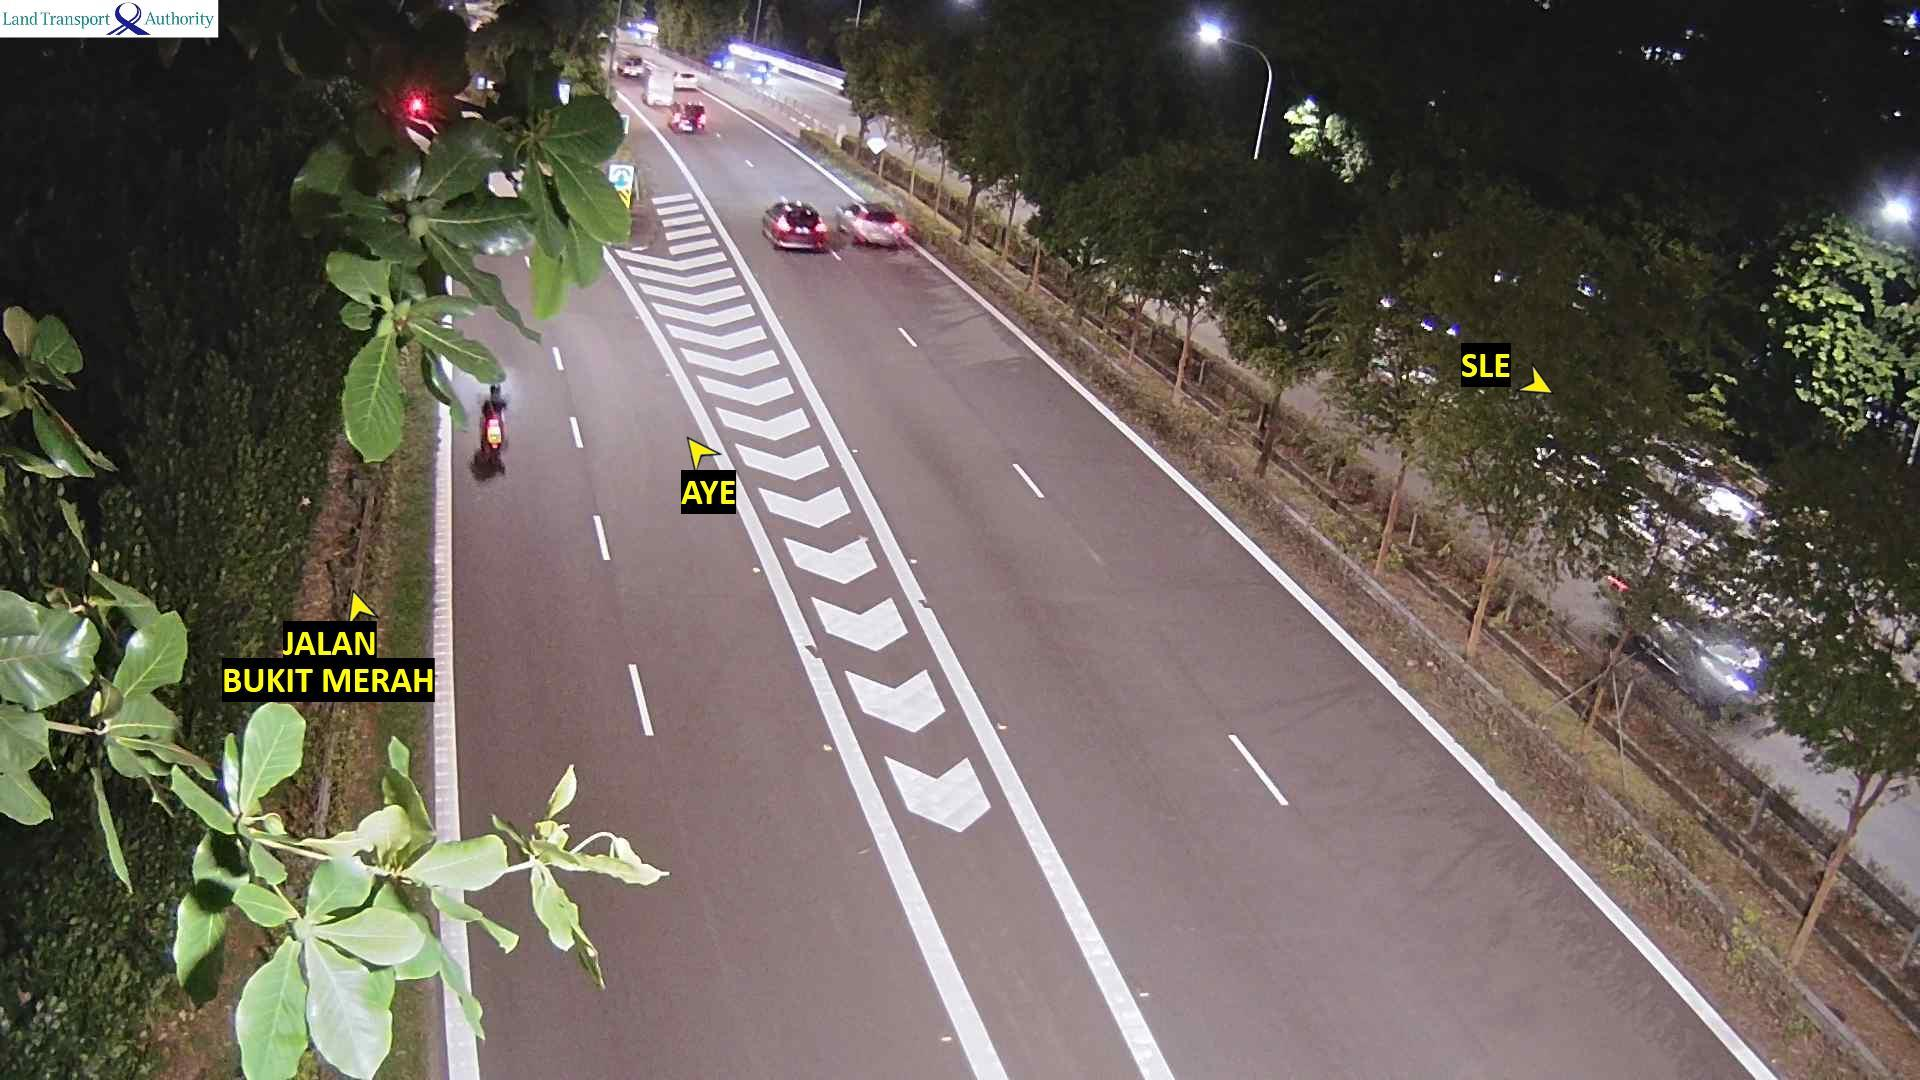cars: (1533, 432, 1907, 712), (760, 198, 828, 253), (835, 200, 906, 248), (668, 99, 706, 133), (617, 53, 643, 78), (751, 57, 781, 75), (671, 68, 696, 89), (707, 50, 731, 71), (746, 68, 772, 87)
motorcycle: (478, 383, 509, 466)
trucks: (640, 63, 678, 108)
